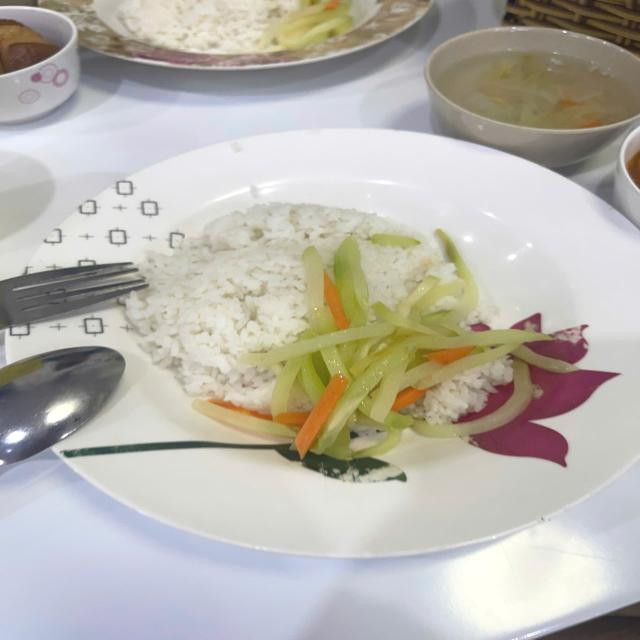canh cai: (433, 51, 640, 130)
com: (124, 203, 442, 409), (115, 0, 299, 54), (409, 358, 513, 424)
kho trung: (0, 20, 59, 74)
rau: (240, 230, 576, 457), (263, 0, 381, 50)
